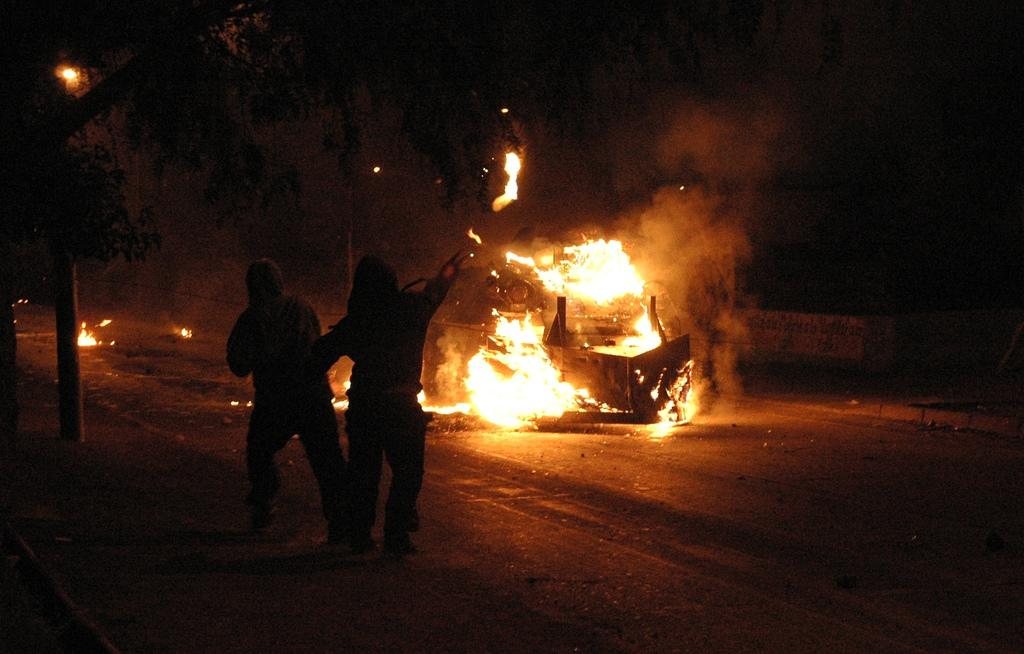fire: (473, 335, 572, 430), (537, 233, 662, 305)
